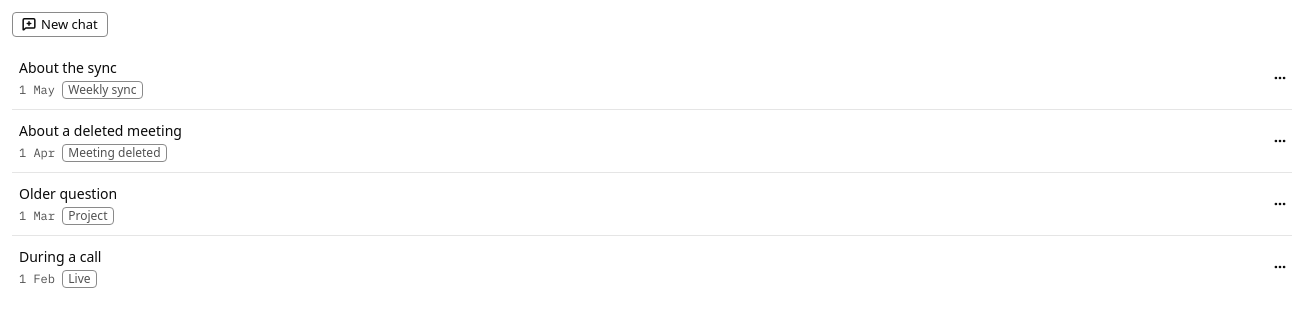
Test case: ChatThreadList › renames in place from the row menu
Click the button named "Actions for Older question" at {"x": 1280, "y": 204}, box [1268,192,1292,216]
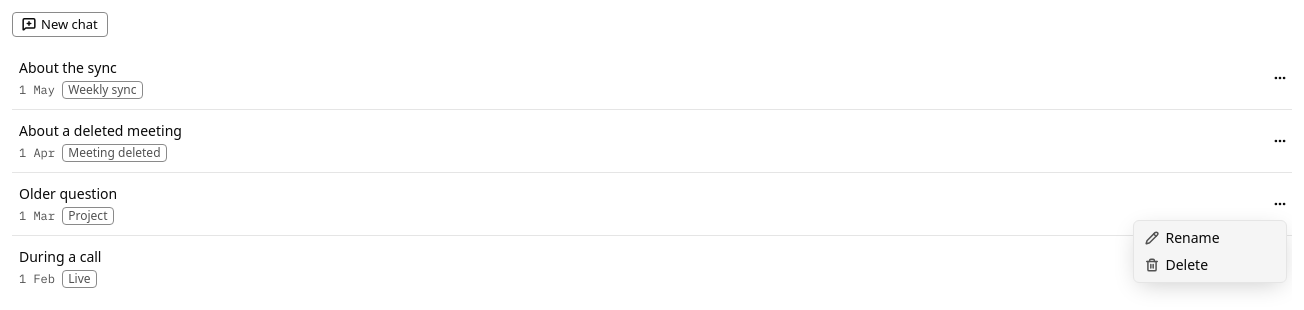
Click the menu item "Rename" at {"x": 1182, "y": 238}, box [1144,228,1220,247]
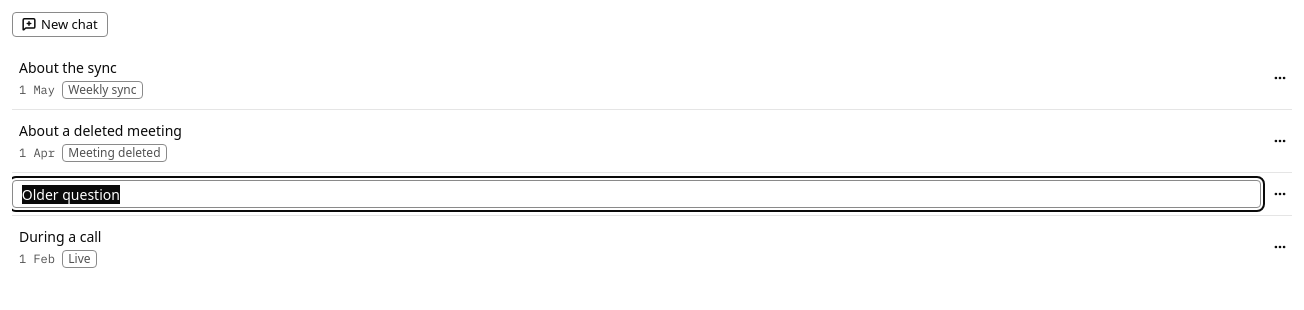
Replace the text in the field named "Rename" with "Renamed chat" at {"x": 636, "y": 194}, box [12,180,1260,208]
Then press Enter
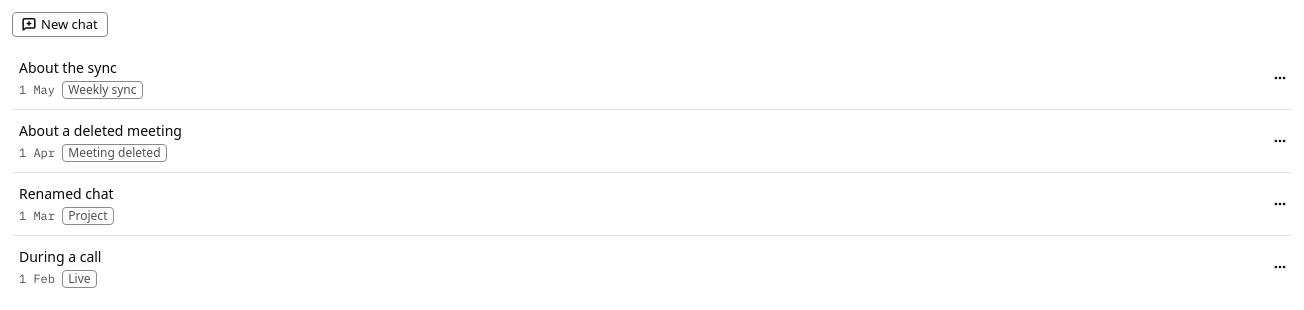
expect the text "Renamed chat" is shown: met, box [19,184,114,204]
